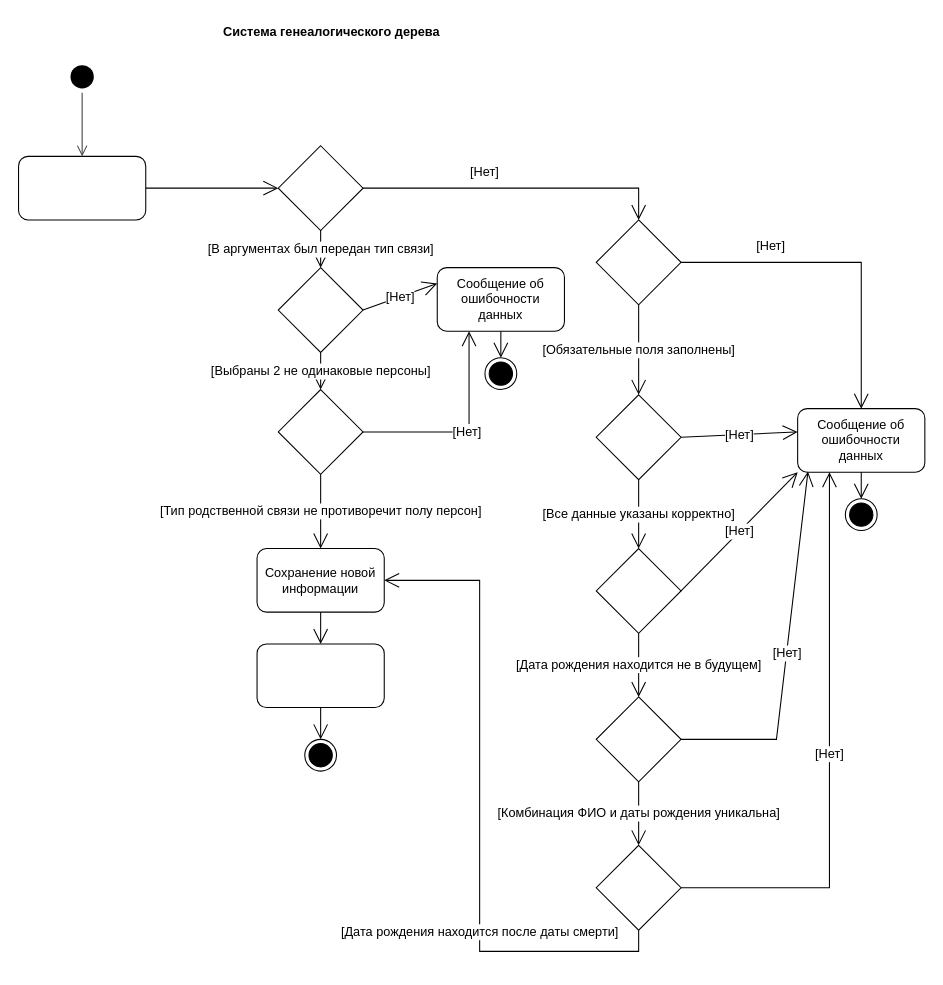
Some shapes in this 943 by 985 pixel diagram are drawn without their labels. The centre of each missing label's shape, as x and y in pixels:
Проверить новые данные: the point at 81,187
Уведомление пользователя об успешном сохранении: the point at 320,675
